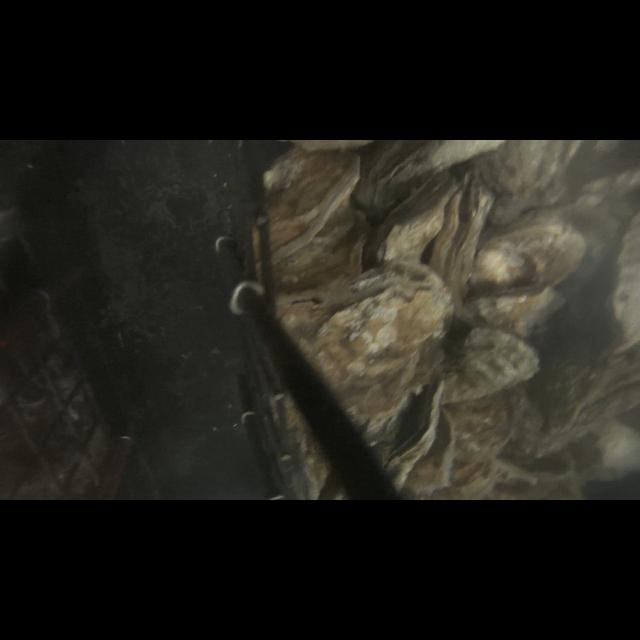Oyster-Closed: (270, 262, 456, 448), (253, 150, 359, 266), (364, 140, 508, 212), (470, 218, 588, 294), (443, 324, 541, 414), (267, 204, 369, 286), (474, 140, 574, 207), (441, 390, 517, 462), (454, 288, 568, 336)
Oyster-Open: (370, 168, 460, 276), (428, 168, 496, 306), (385, 376, 443, 496)
